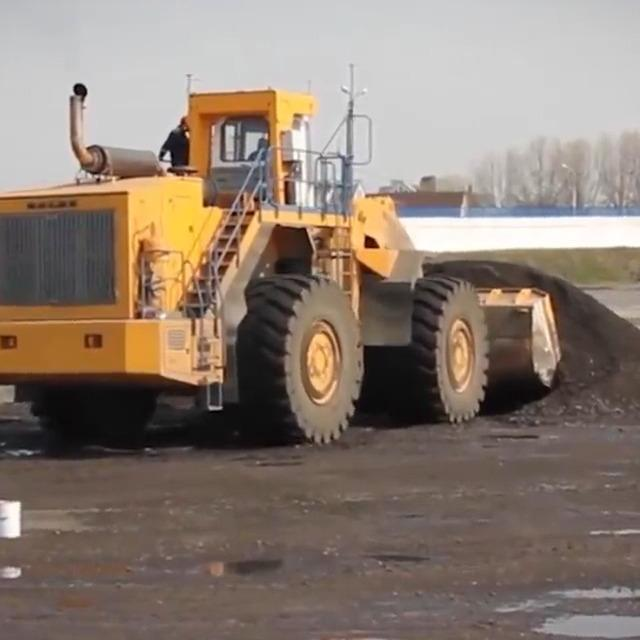NO-Hardhat: (180, 115, 188, 121)
NO-Safety Vest: (171, 129, 190, 164)
Person: (159, 113, 190, 166), (246, 138, 269, 160)
wheel loader: (0, 65, 572, 450)
